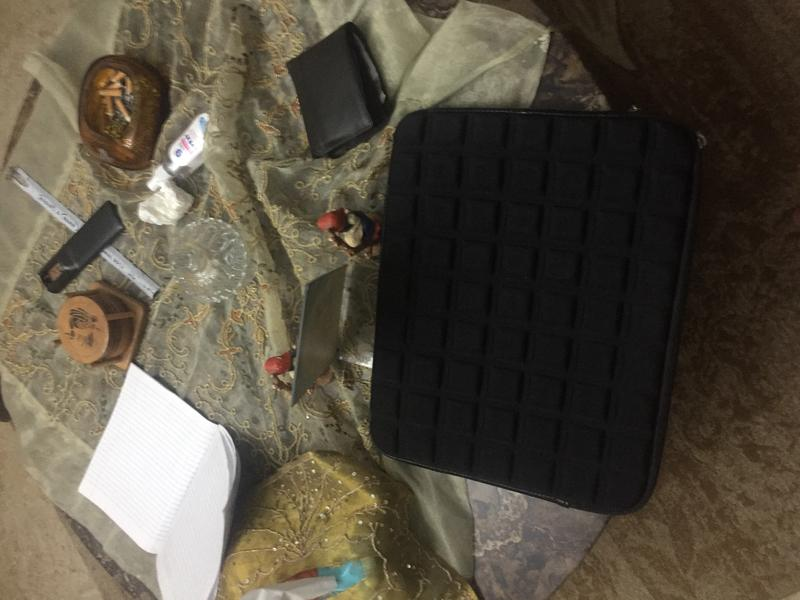cover: (366, 97, 707, 518)
